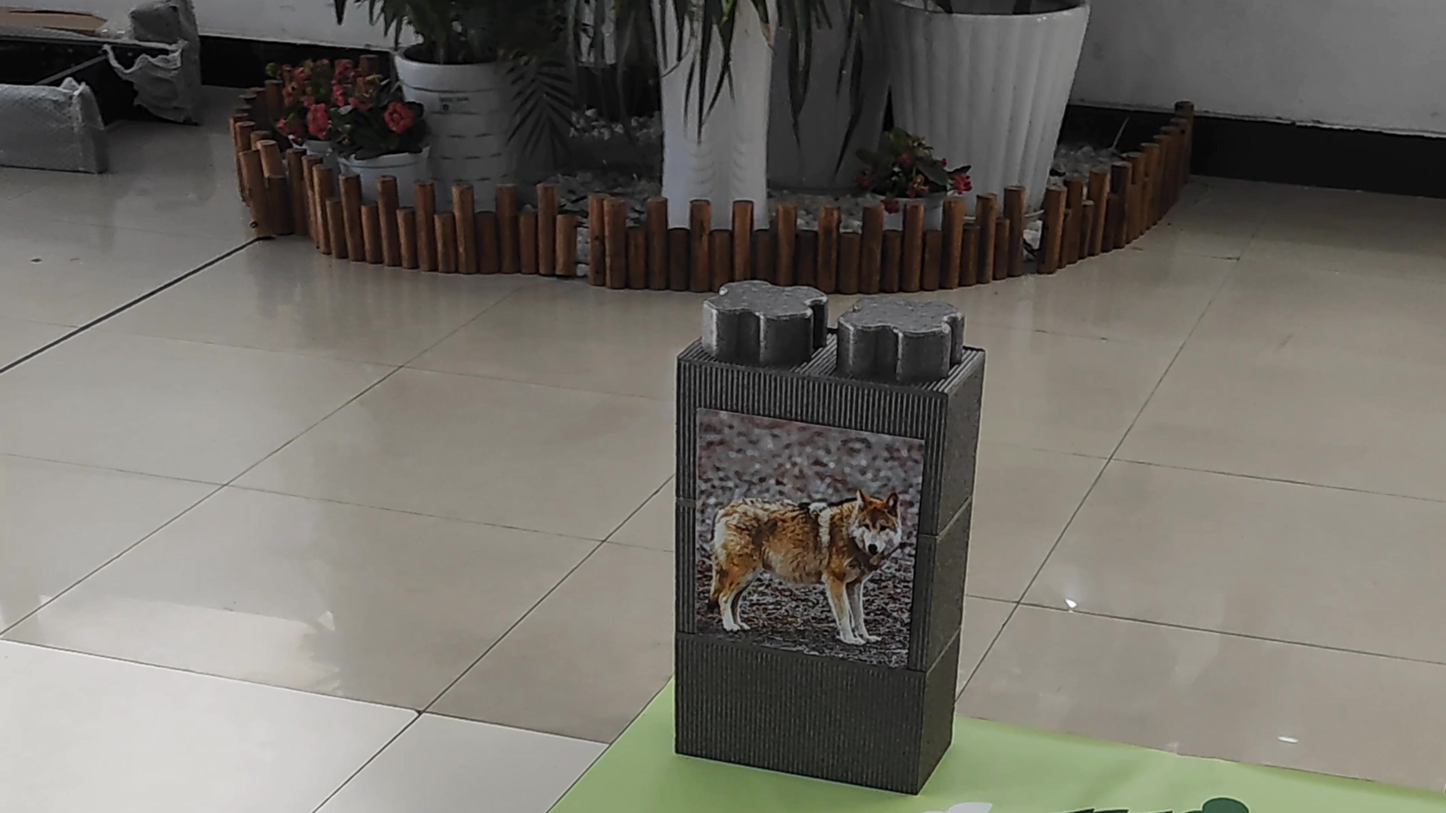wolf: (687, 468, 898, 664)
